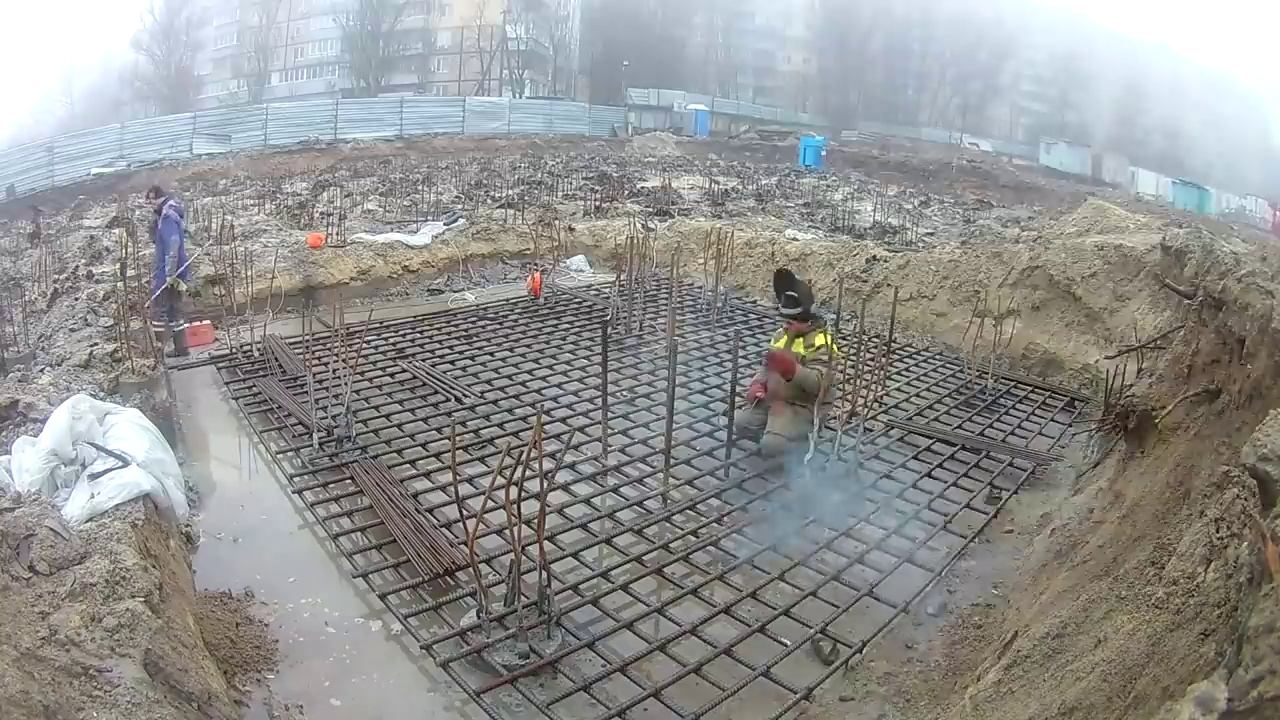helmet: (525, 269, 543, 302), (305, 231, 325, 250)
helmet-off: (773, 267, 820, 334), (146, 189, 173, 224)
person: (732, 265, 841, 466), (141, 189, 196, 365)
